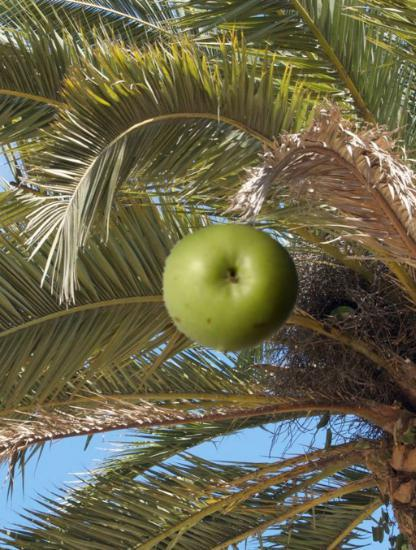Apple: (161, 219, 302, 360)
